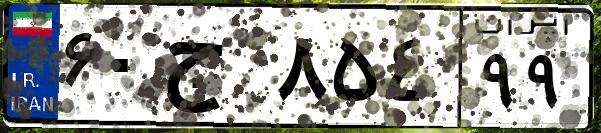0: (110, 28, 158, 98)
4: (385, 28, 445, 110)
5: (330, 28, 385, 110)
6: (57, 26, 110, 100)
8: (270, 28, 330, 110)
9: (475, 38, 525, 113), (525, 38, 570, 115)
ج: (158, 20, 270, 120)
